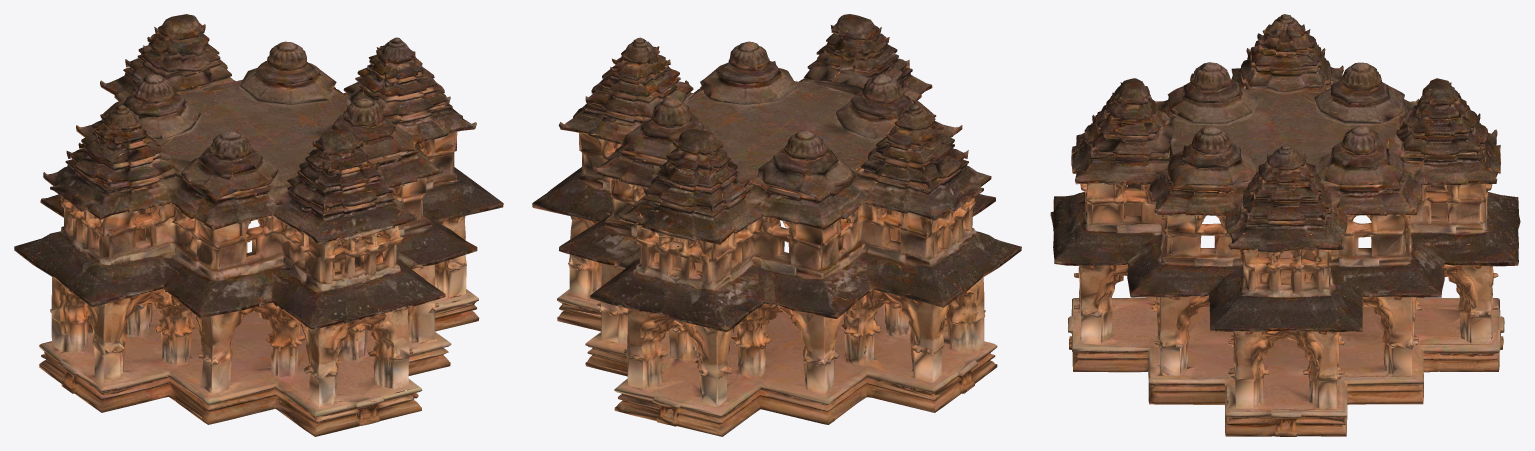
File: hampi-lotus-mahal.glb
The picture shows the model from 3 angles, left to right: view 1: azimuth 30°, elevation 25°; view 2: azimuth 150°, elevation 25°; view 3: azimuth 270°, elevation 25°; orthographic projection. The views are drawn at different scales.
Parts seen in each view (by area): view 1: mesh_node; view 2: mesh_node; view 3: mesh_node.
Boxes of the visible parts, x1=… form: mesh_node: x1=14, y1=14, x2=503, y2=436; mesh_node: x1=532, y1=14, x2=1021, y2=436; mesh_node: x1=1050, y1=14, x2=1520, y2=436.
Size of the model in its own units: 0.4965 by 0.3131 by 0.4999.
1 material, 1 textured.
